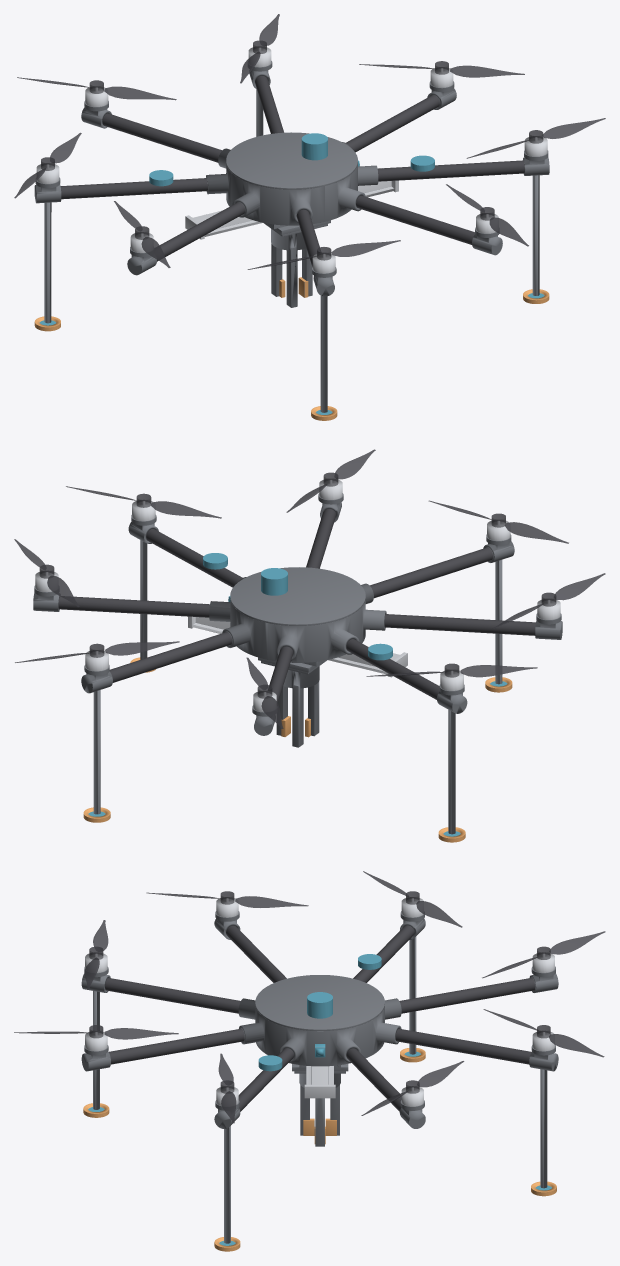
Rendered from prometheus.glb.
The picture shows the model from 3 angles, top to bottom: view 1: azimuth 30°, elevation 25°; view 2: azimuth 150°, elevation 25°; view 3: azimuth 270°, elevation 25°; orthographic projection. The views are drawn at different scales.
Visible parts, largest first — view 1: Prometheus V1; view 2: Prometheus V1; view 3: Prometheus V1.
Part boxes in pixels (left/top/right/bottom): Prometheus V1: left=14, top=14, right=605, bottom=420; Prometheus V1: left=14, top=449, right=605, bottom=842; Prometheus V1: left=14, top=871, right=605, bottom=1251.
Size of the model in its own units: 1.38 by 0.421 by 1.37.
